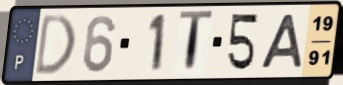1: (146, 12, 168, 75)
5: (226, 12, 260, 73)
6: (80, 14, 119, 75)
A: (257, 12, 305, 70)
D: (32, 11, 79, 78)
T: (177, 8, 216, 77)
